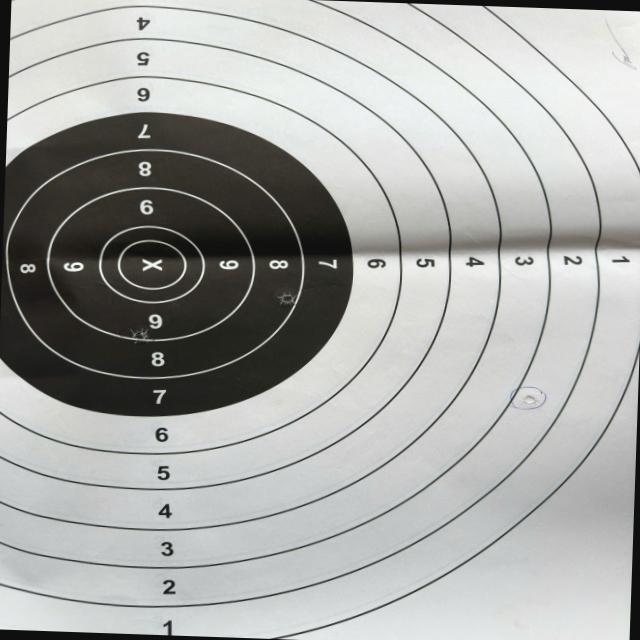bullet: (520, 393, 538, 404), (277, 293, 294, 304), (131, 330, 147, 340)
target: (0, 0, 640, 640)
